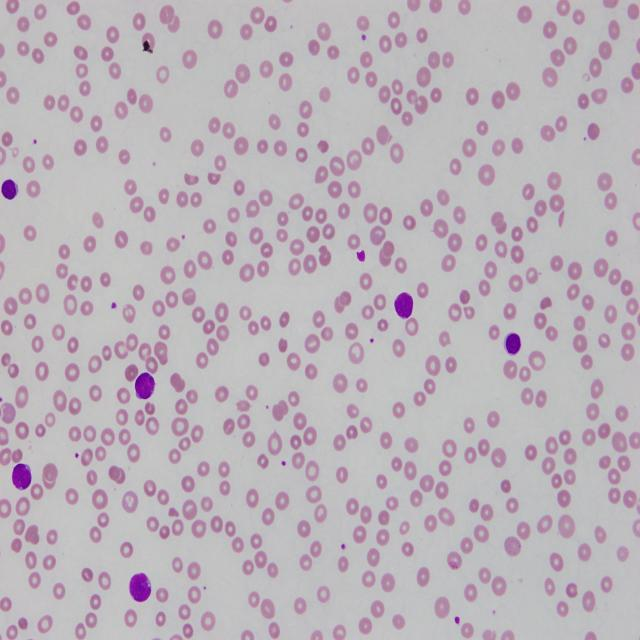cell: (129, 573, 151, 602), (135, 372, 155, 400), (12, 463, 31, 490), (395, 292, 414, 318), (505, 333, 521, 355), (1, 180, 18, 200)
